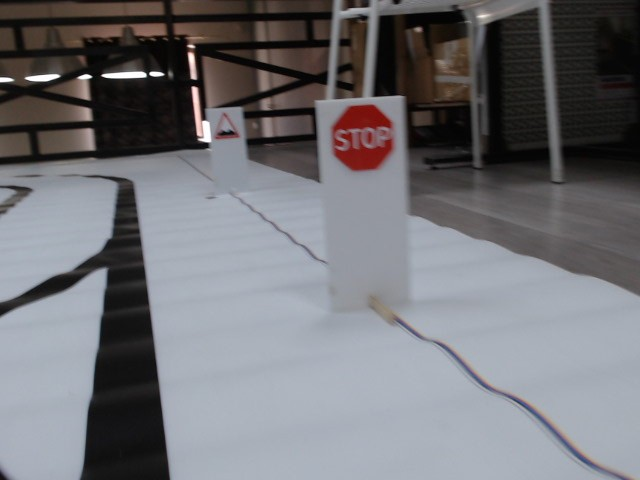Nerov: (215, 113, 240, 141)
Stop: (330, 104, 395, 171)
